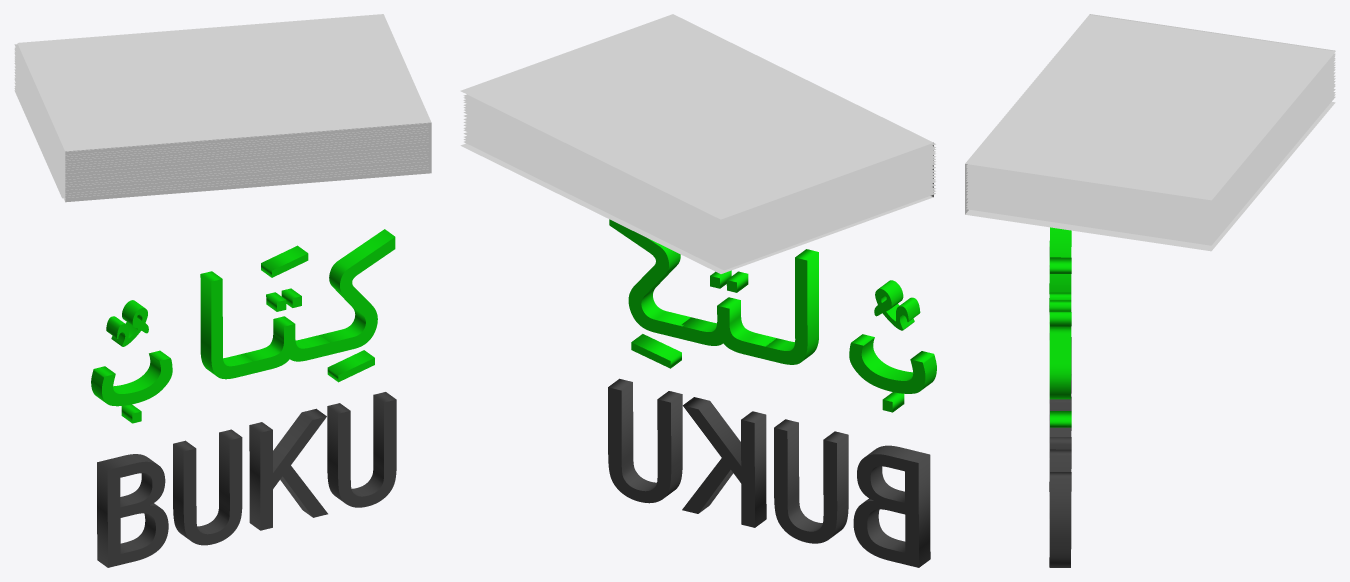
The model's file is book.fbx.
The picture shows the model from 3 angles, left to right: view 1: azimuth 30°, elevation 25°; view 2: azimuth 150°, elevation 25°; view 3: azimuth 270°, elevation 25°; orthographic projection. The views are drawn at different scales.
Visible parts, largest first — view 1: sites, Text.004, Text, Plane.019, Text.003, Text.001, Text.002; view 2: sites, Text.004, Plane.019, Text, Text.003, Text.001; view 3: sites, Plane.019, Text.004, Text.
Boxes of the visible parts, bbox=[...] form: sites: bbox=[17, 14, 431, 202]; Text.004: bbox=[97, 392, 396, 567]; Text: bbox=[91, 229, 395, 423]; Plane.019: bbox=[14, 44, 428, 198]; Text.003: bbox=[106, 300, 148, 346]; Text.001: bbox=[327, 350, 374, 382]; Text.002: bbox=[261, 245, 308, 277]; sites: bbox=[460, 14, 933, 273]; Text.004: bbox=[608, 378, 930, 567]; Plane.019: bbox=[463, 94, 935, 270]; Text: bbox=[609, 219, 936, 412]; Text.003: bbox=[874, 280, 920, 330]; Text.001: bbox=[631, 334, 681, 368]; sites: bbox=[965, 15, 1335, 251]; Plane.019: bbox=[966, 14, 1335, 245]; Text.004: bbox=[1049, 337, 1071, 567]; Text: bbox=[1049, 227, 1071, 399].
Bounding box in the file's own units: 412 × 422 × 345.
